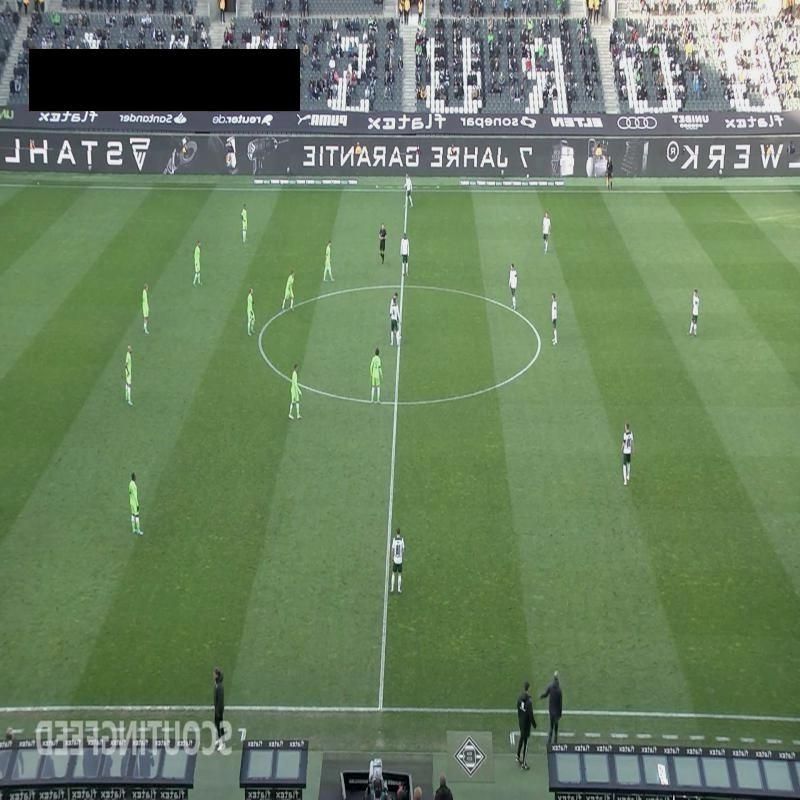13: (399, 184, 416, 197)
14: (397, 278, 411, 292)
15: (390, 394, 404, 408)
16: (370, 698, 388, 716)
c: (531, 332, 550, 352), (254, 331, 268, 345)
